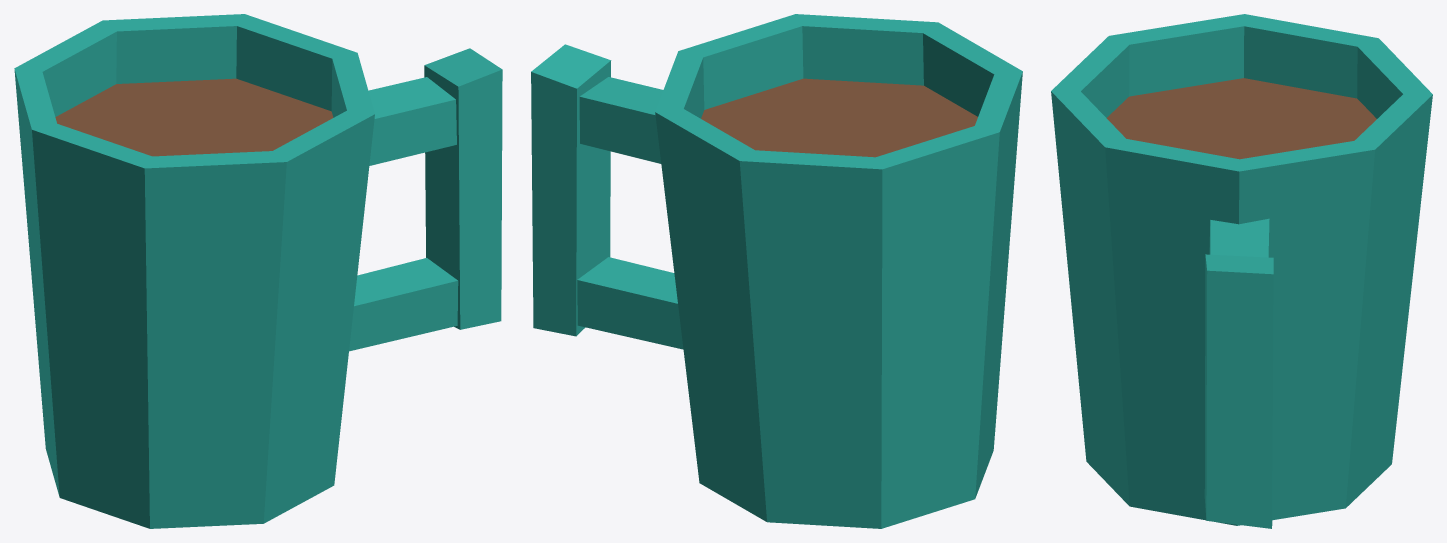
The model's file is mug.fbx.
3 renders of one model, left to right at view 1: azimuth 30°, elevation 25°; view 2: azimuth 150°, elevation 25°; view 3: azimuth 270°, elevation 25°, orthographic.
Visible parts, largest first — view 1: mug; view 2: mug; view 3: mug.
Boxes of the visible parts, left/top/right/bottom form: mug: left=14, top=14, right=502, bottom=528; mug: left=531, top=14, right=1022, bottom=528; mug: left=1051, top=14, right=1432, bottom=528.
Bounding box in the file's own units: 0.1253 × 0.0988 × 0.0917.
